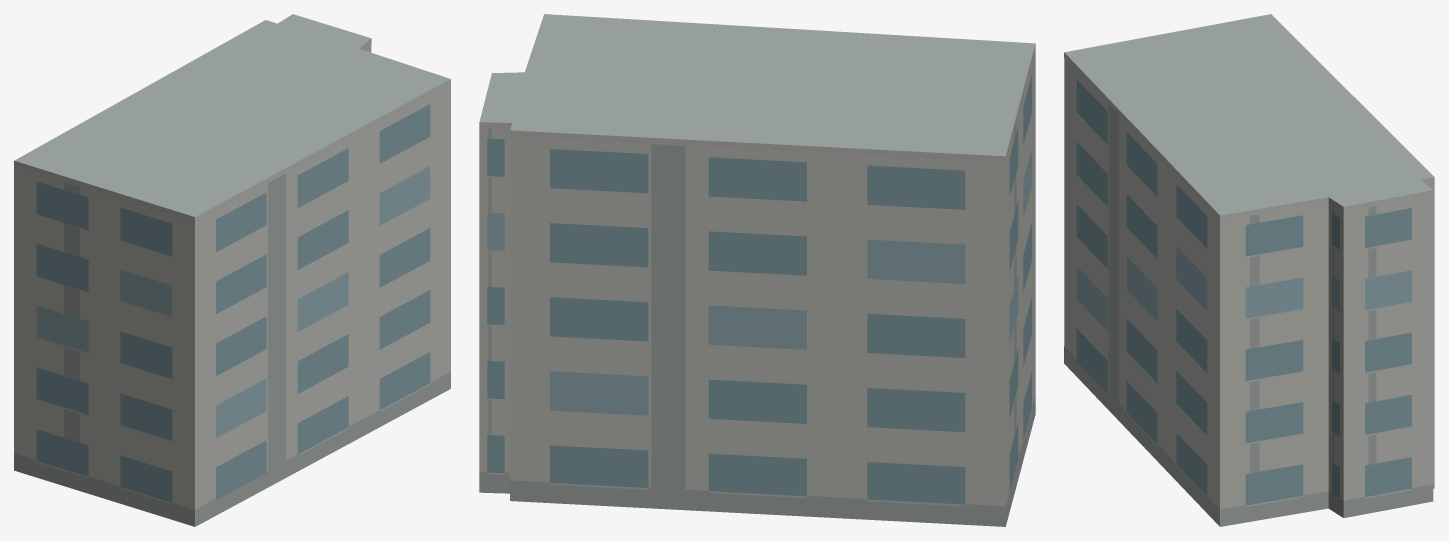
File: survey-upis-32843026.glb
3 renders of one model, left to right at view 1: azimuth 30°, elevation 25°; view 2: azimuth 150°, elevation 25°; view 3: azimuth 270°, elevation 25°, orthographic. The views are drawn at different scales.
Parts seen in each view (by area): view 1: survey-upis-32843026.tmp; view 2: survey-upis-32843026.tmp; view 3: survey-upis-32843026.tmp.
Part boxes in pixels (<box>): survey-upis-32843026.tmp: <box>14,14,450,526</box>; survey-upis-32843026.tmp: <box>479,14,1035,526</box>; survey-upis-32843026.tmp: <box>1064,14,1434,526</box>.
Size of the model in its own units: 19.74 by 14.2 by 15.33.
